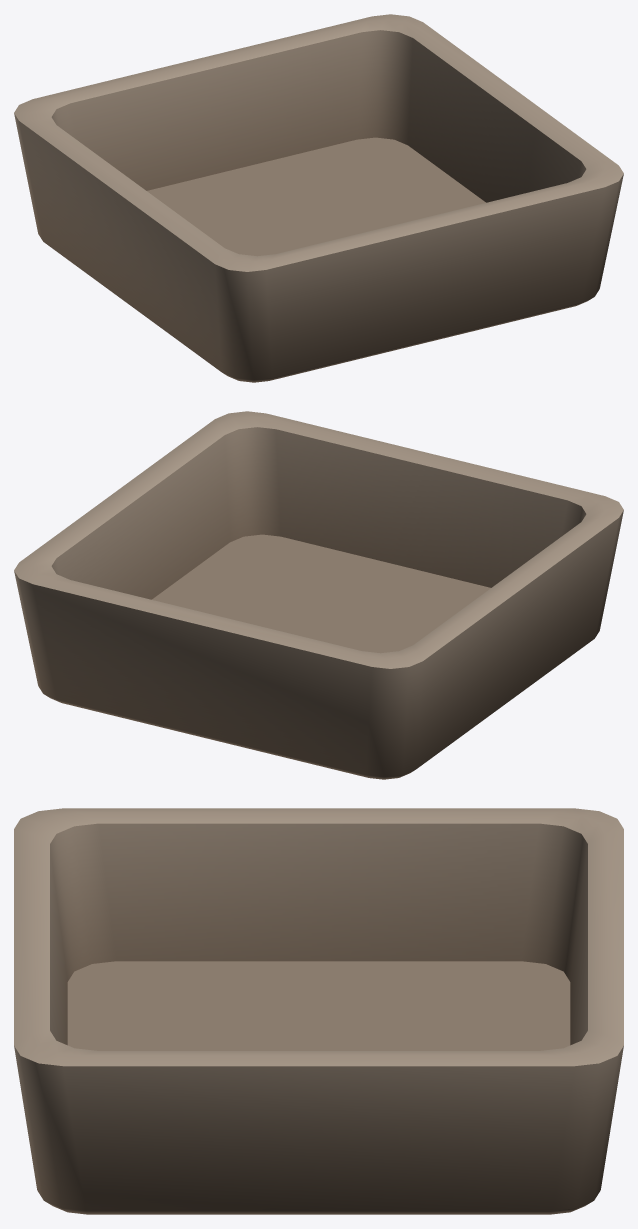
The model's file is container_B_tall.obj.
The picture shows the model from 3 angles, top to bottom: view 1: azimuth 30°, elevation 25°; view 2: azimuth 150°, elevation 25°; view 3: azimuth 270°, elevation 25°; orthographic projection. The views are drawn at different scales.
Parts seen in each view (by area): view 1: container_B_tall; view 2: container_B_tall; view 3: container_B_tall.
Part boxes in pixels (x1=…): container_B_tall: x1=14, y1=14, x2=623, y2=382; container_B_tall: x1=14, y1=411, x2=623, y2=779; container_B_tall: x1=14, y1=808, x2=623, y2=1214.
Size of the model in its own units: 3.4 by 1.02 by 3.4.
1 material, 1 textured.
